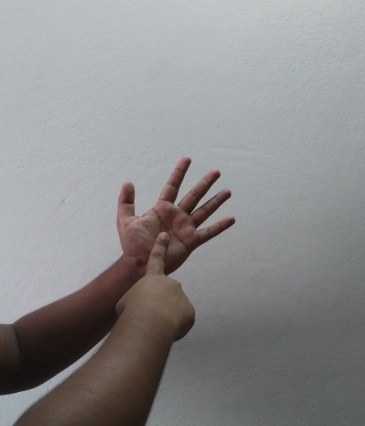oo: (111, 156, 236, 330)
